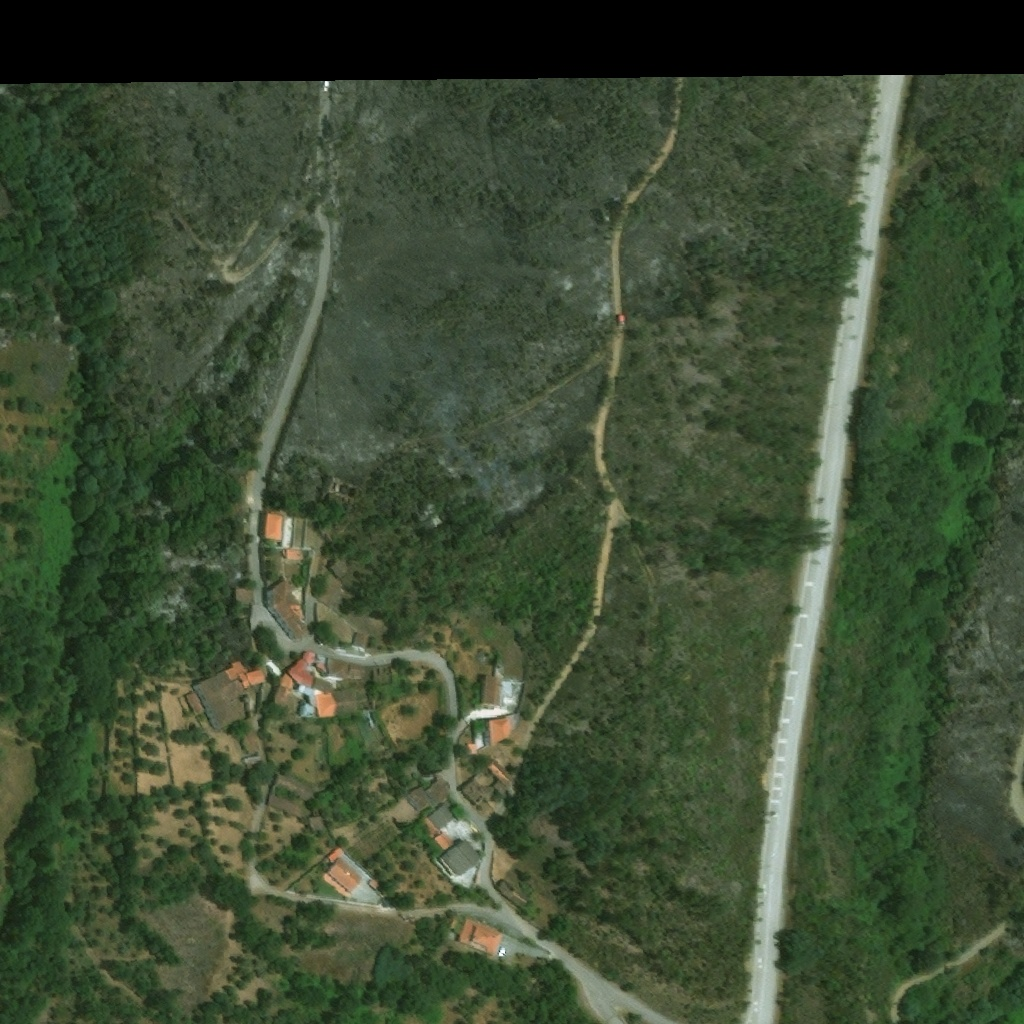0 no-damage: (182, 661, 267, 732), (287, 651, 363, 718), (419, 802, 483, 877), (267, 578, 308, 643), (263, 513, 327, 548), (323, 846, 364, 897), (457, 916, 505, 957), (405, 774, 451, 811), (273, 771, 315, 804), (267, 792, 307, 820), (498, 880, 530, 907), (488, 716, 514, 747), (273, 673, 294, 709), (480, 676, 501, 707), (330, 559, 352, 581), (310, 815, 328, 835), (243, 755, 262, 770), (236, 589, 251, 607), (353, 633, 367, 648), (287, 550, 304, 560), (368, 878, 381, 891)
1 minor-damage: (460, 758, 525, 809)
3 destroyed: (324, 474, 361, 507)
